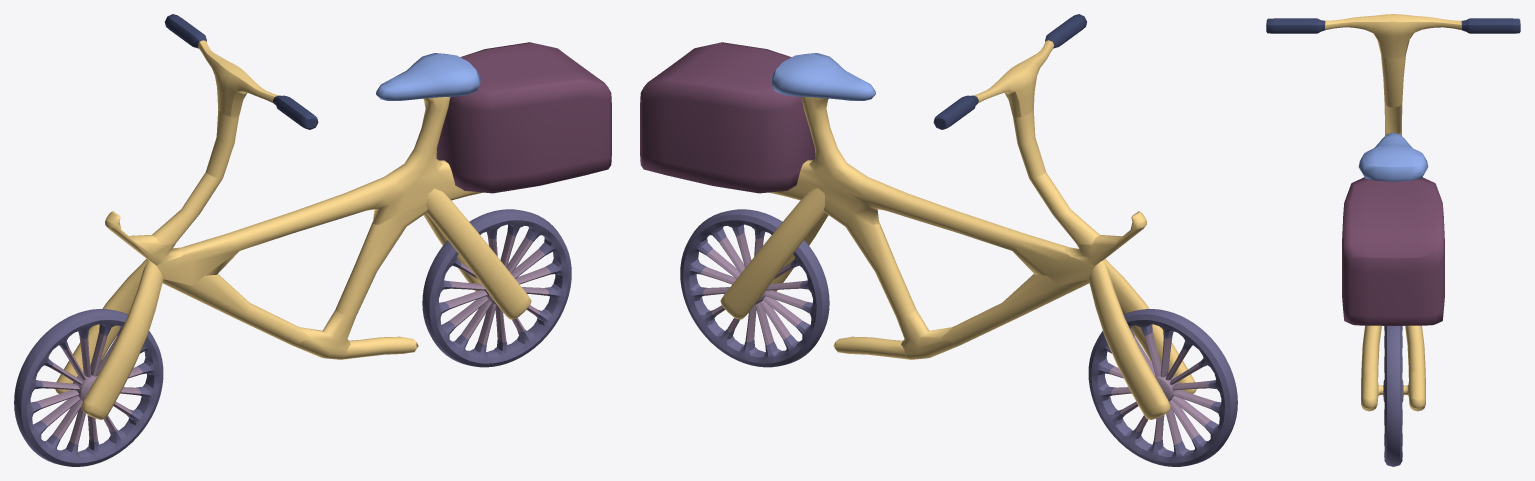
File: bikething.fbx
3 renders of one model, left to right at view 1: azimuth 30°, elevation 25°; view 2: azimuth 150°, elevation 25°; view 3: azimuth 270°, elevation 25°, orthographic. The views are drawn at different scales.
Parts seen in each view (by area): view 1: Cube.002, Circle.001, Circle, Cube.001, Cube.003; view 2: Cube.002, Circle.001, Circle, Cube.001, Cube.003; view 3: Cube.002, Cube.003, Circle.001.
Part boxes in pixels (x1=…): Cube.002: x1=105, y1=14, x2=611, y2=359; Circle.001: x1=422, y1=209, x2=571, y2=367; Circle: x1=14, y1=309, x2=163, y2=466; Cube.001: x1=55, y1=259, x2=163, y2=419; Cube.003: x1=423, y1=188, x2=531, y2=319; Cube.002: x1=640, y1=14, x2=1146, y2=359; Circle.001: x1=680, y1=209, x2=829, y2=367; Circle: x1=1088, y1=309, x2=1237, y2=466; Cube.001: x1=1088, y1=259, x2=1196, y2=419; Cube.003: x1=720, y1=188, x2=828, y2=319; Cube.002: x1=1266, y1=14, x2=1520, y2=325; Cube.003: x1=1361, y1=325, x2=1425, y2=411; Circle.001: x1=1383, y1=326, x2=1403, y2=466.
Bounding box in the file's own units: 233 × 141 × 98.88.
